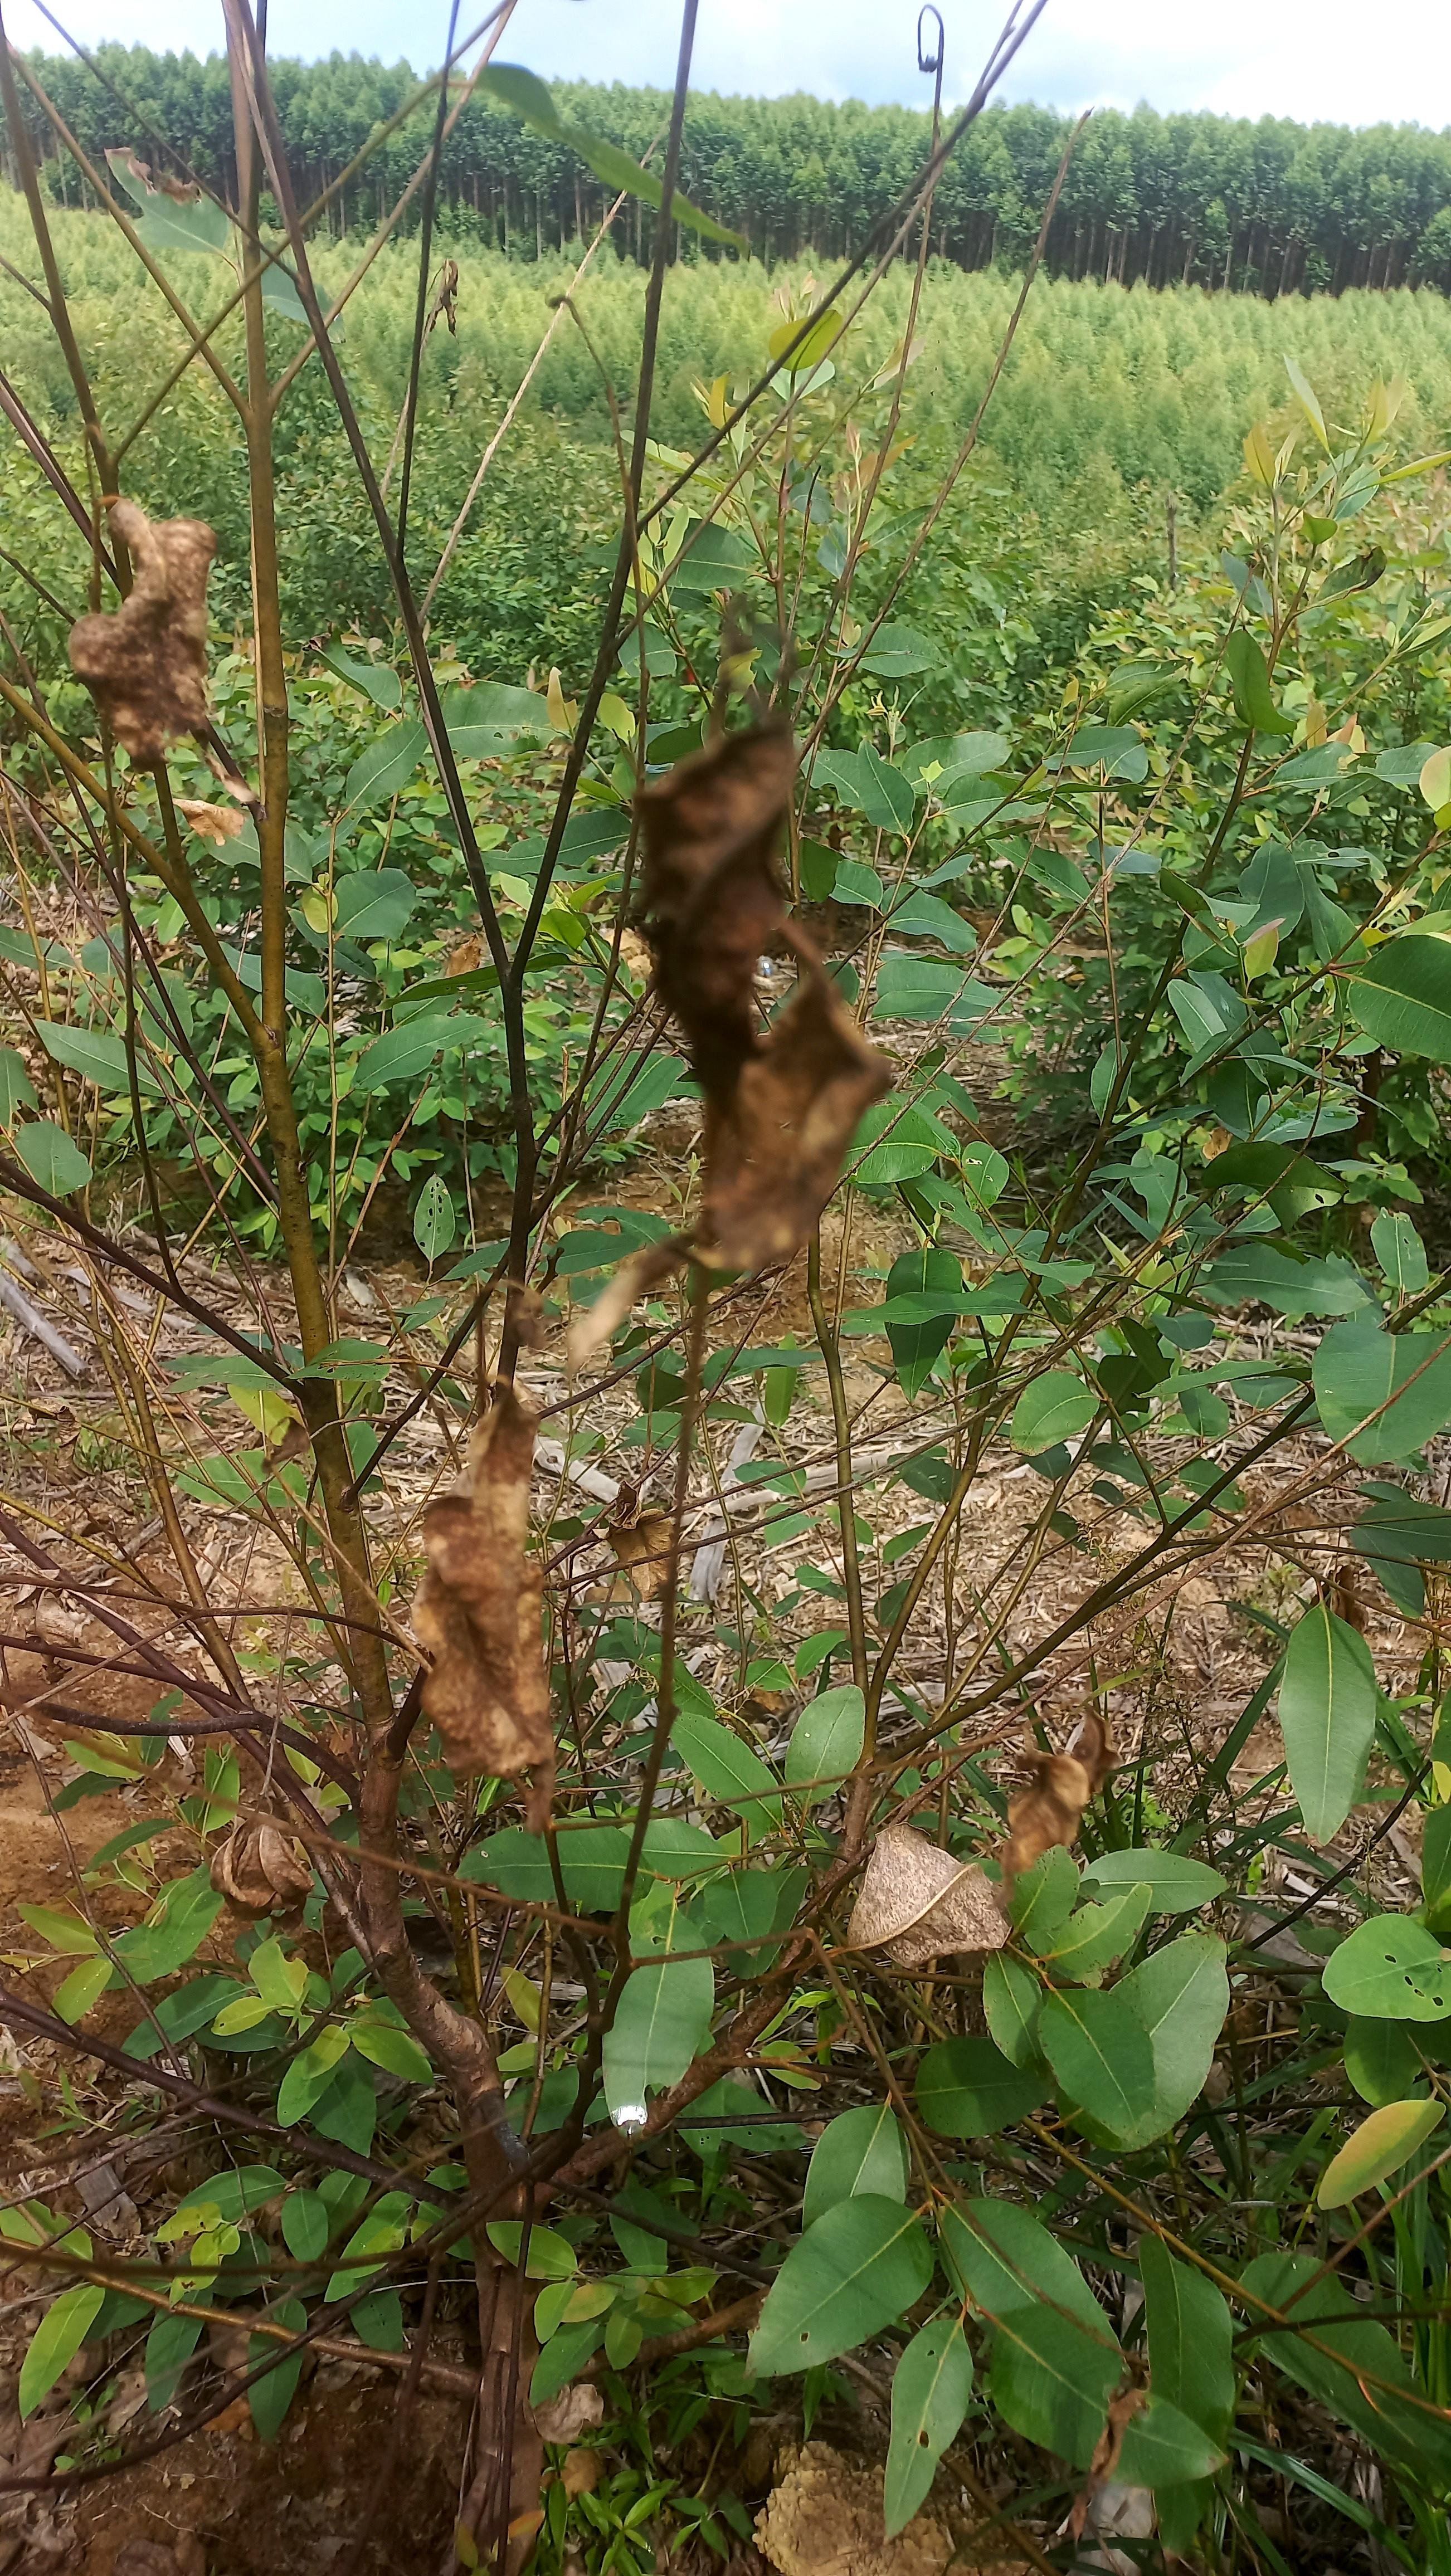Helopeltis-Withered Sprout: (648, 736, 881, 1302), (402, 1369, 559, 1785), (64, 464, 235, 821), (855, 1829, 994, 1967), (1007, 1737, 1104, 1909), (203, 1829, 320, 1923), (419, 260, 488, 343), (908, 0, 950, 81)
